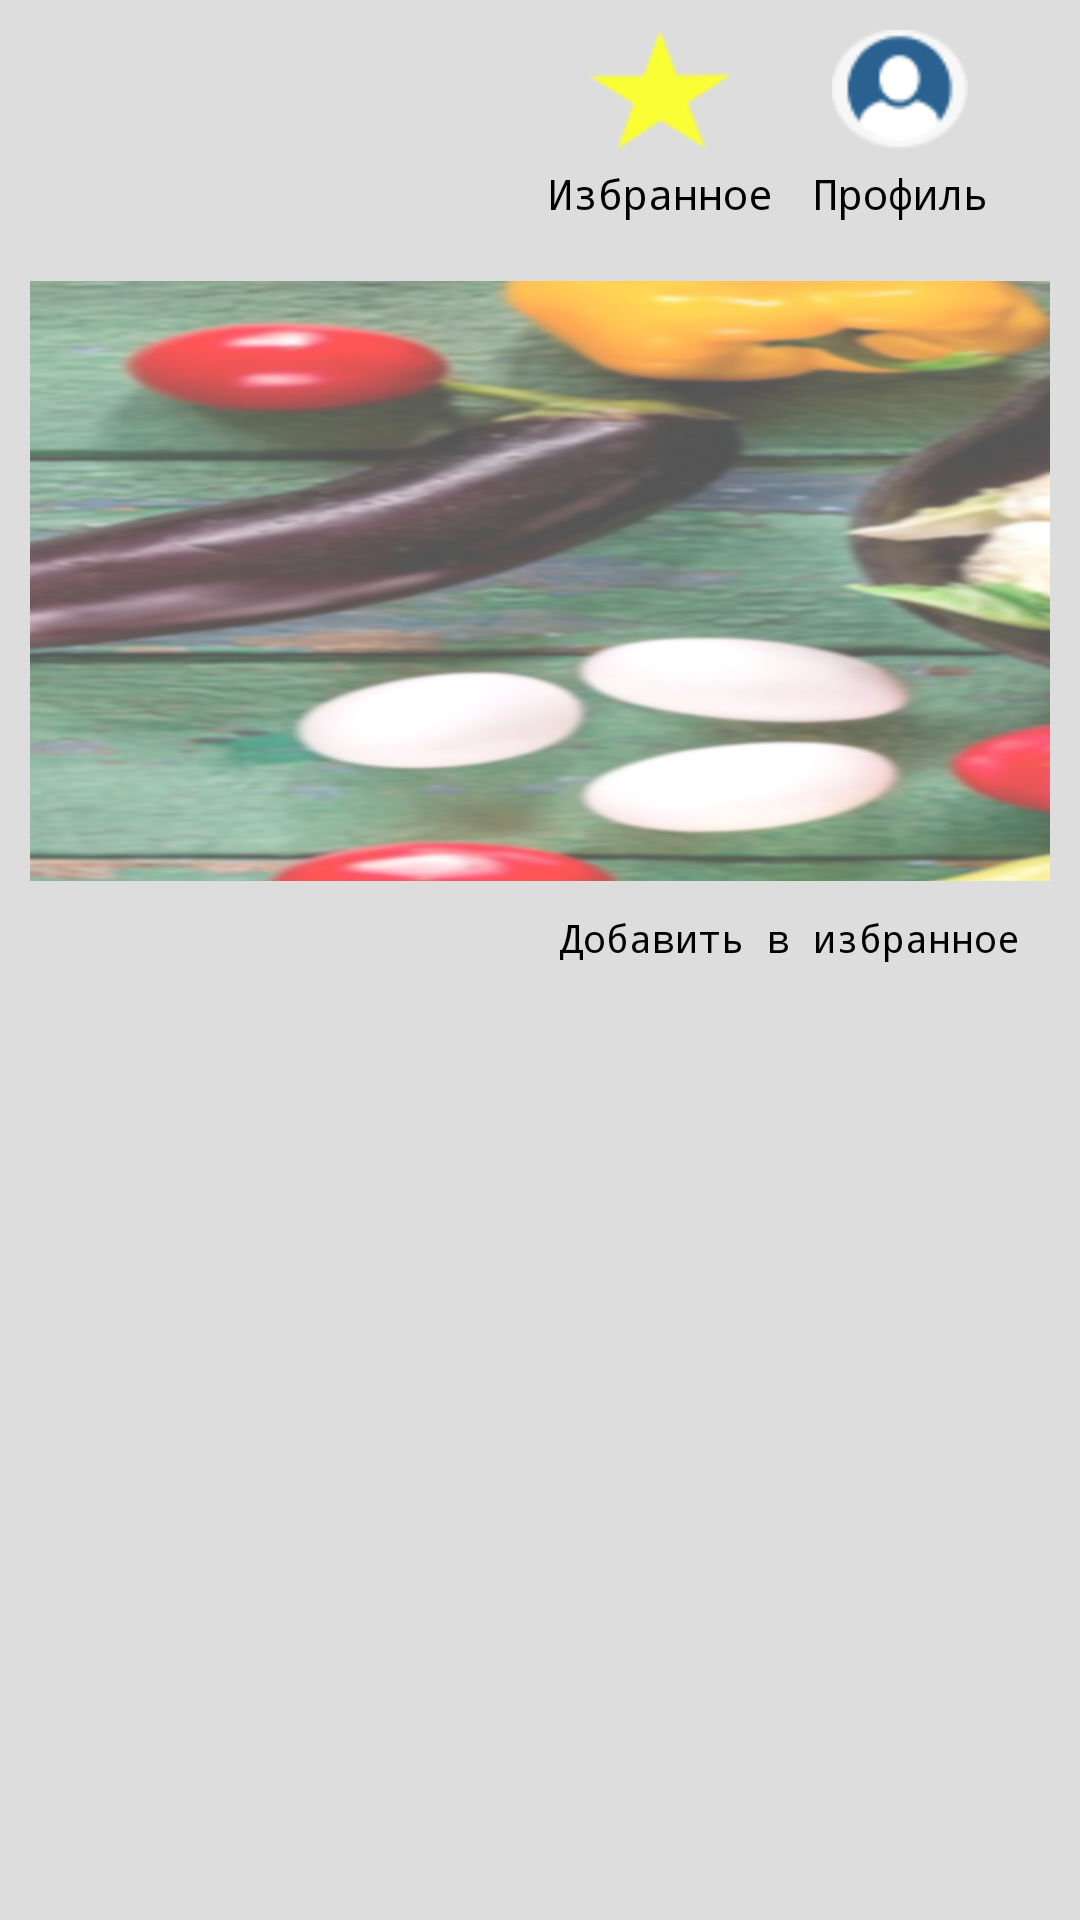

Screen size 1080 x 1920. Icon name, then its center in pixels as (x,y):
star: (660,89)
